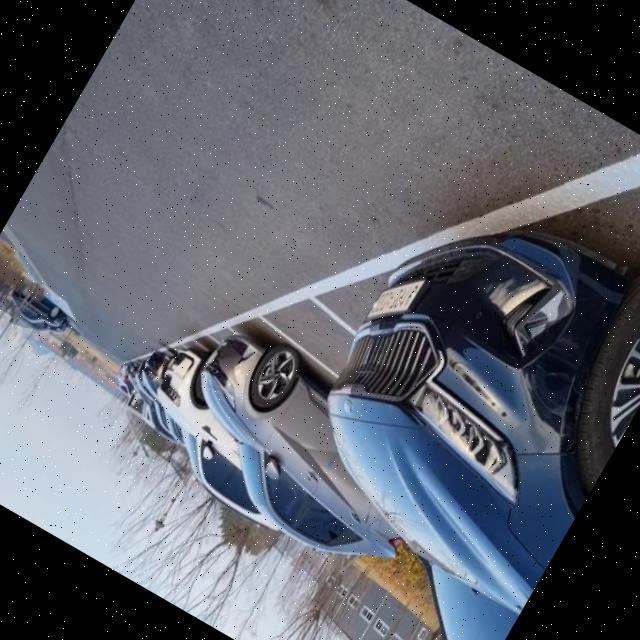Car: (210, 111, 640, 640), (141, 355, 445, 598), (136, 349, 286, 522), (102, 358, 210, 462), (1, 273, 92, 352), (115, 366, 177, 421)
Free: (242, 257, 394, 392)
